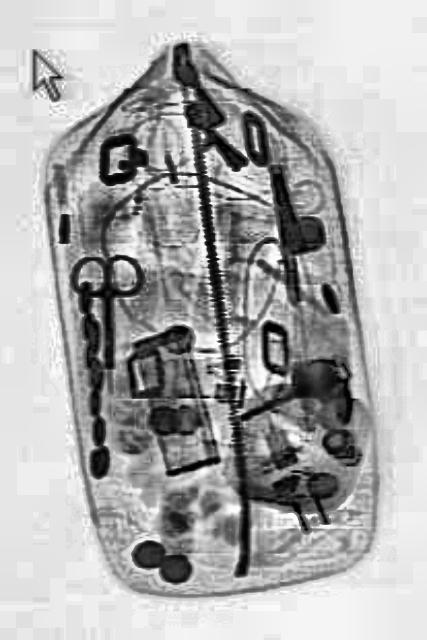Scissors: (68, 252, 142, 366)
